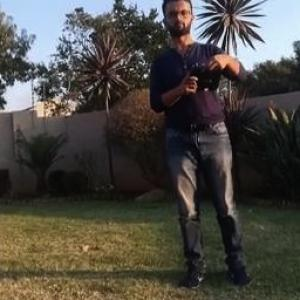follow: (143, 0, 260, 297)
